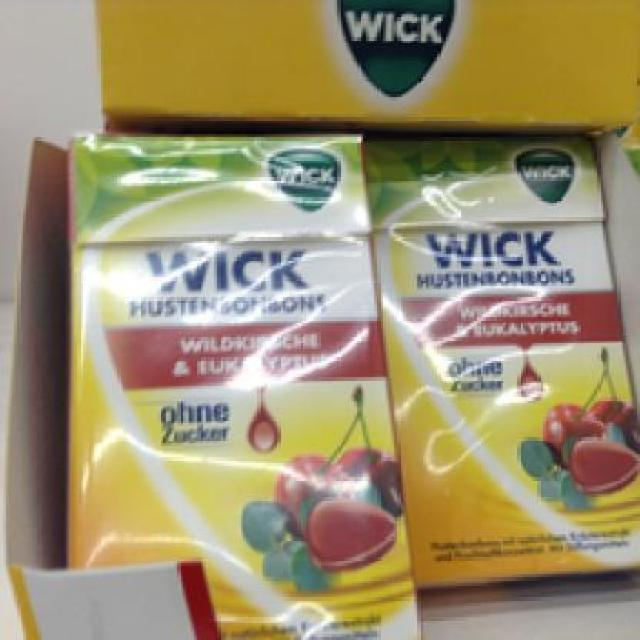Candy: (54, 132, 417, 638), (357, 134, 637, 583)
